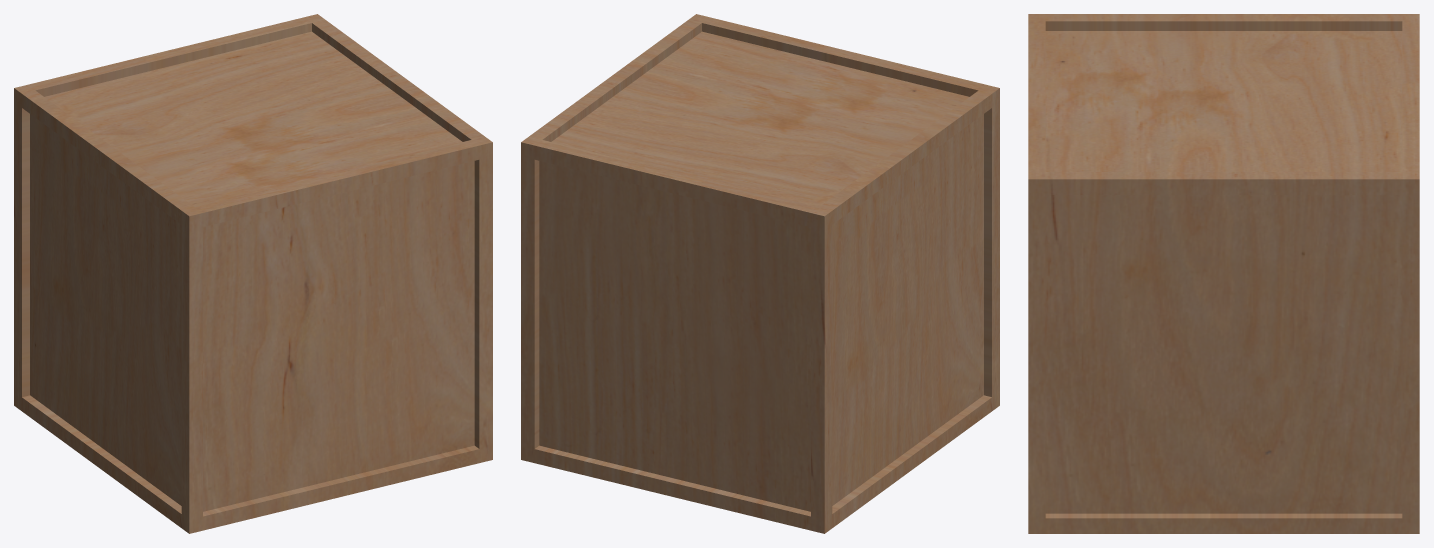
3 views of the same model, side by side, from view 1: azimuth 30°, elevation 25°; view 2: azimuth 150°, elevation 25°; view 3: azimuth 270°, elevation 25° (orthographic). The views are drawn at different scales.
Parts seen in each view (by area): view 1: 立方体.009; view 2: 立方体.009; view 3: 立方体.009.
Boxes of the visible parts, <box> form: 立方体.009: <box>14,14,492,533</box>; 立方体.009: <box>521,14,999,533</box>; 立方体.009: <box>1028,14,1419,533</box>.
Size of the model in its own units: 399 by 399 by 399.
1 material, 1 textured.
